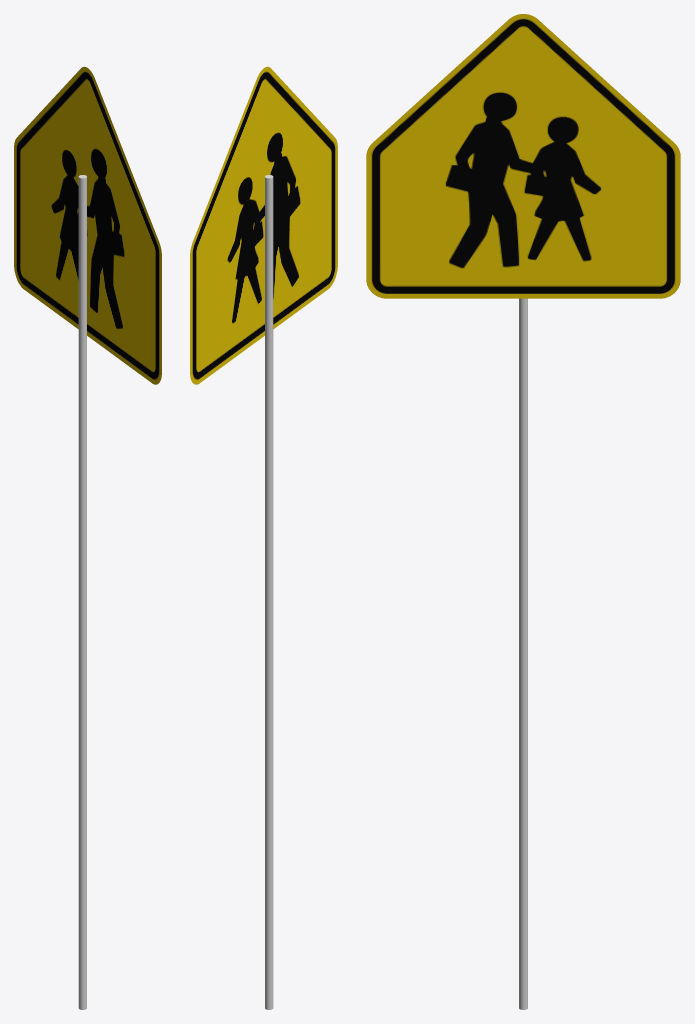
Rendered from budak-melintas.fbx.
3 views of the same model, side by side, from view 1: azimuth 30°, elevation 25°; view 2: azimuth 150°, elevation 25°; view 3: azimuth 270°, elevation 25° (orthographic). The views are drawn at different scales.
Visible parts, largest first — view 1: budak-melintas, Cylinder; view 2: budak-melintas, Cylinder; view 3: budak-melintas, Cylinder.
Part boxes in pixels (<box>): budak-melintas: <box>14,66,161,384</box>; Cylinder: <box>78,175,86,1009</box>; budak-melintas: <box>190,66,337,384</box>; Cylinder: <box>265,175,273,1009</box>; budak-melintas: <box>366,14,680,298</box>; Cylinder: <box>519,298,527,1009</box>.
Bounding box in the file's own units: 3.43 × 350 × 100.
